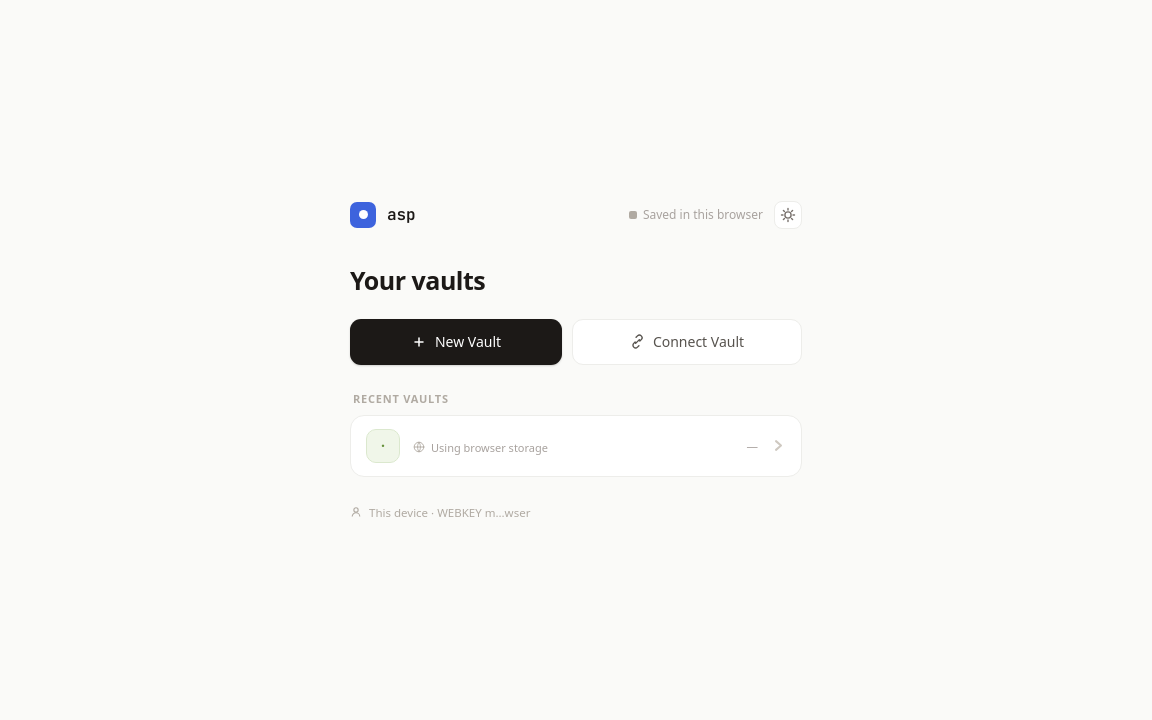
Scenario: App on the web (OPFS, no Tauri) › offers "New vault…" (not "Open a folder…") in the switcher
The image size is (1152, 720).
Click the text "Using browser storage": x=490, y=447 [431,440,548,454]
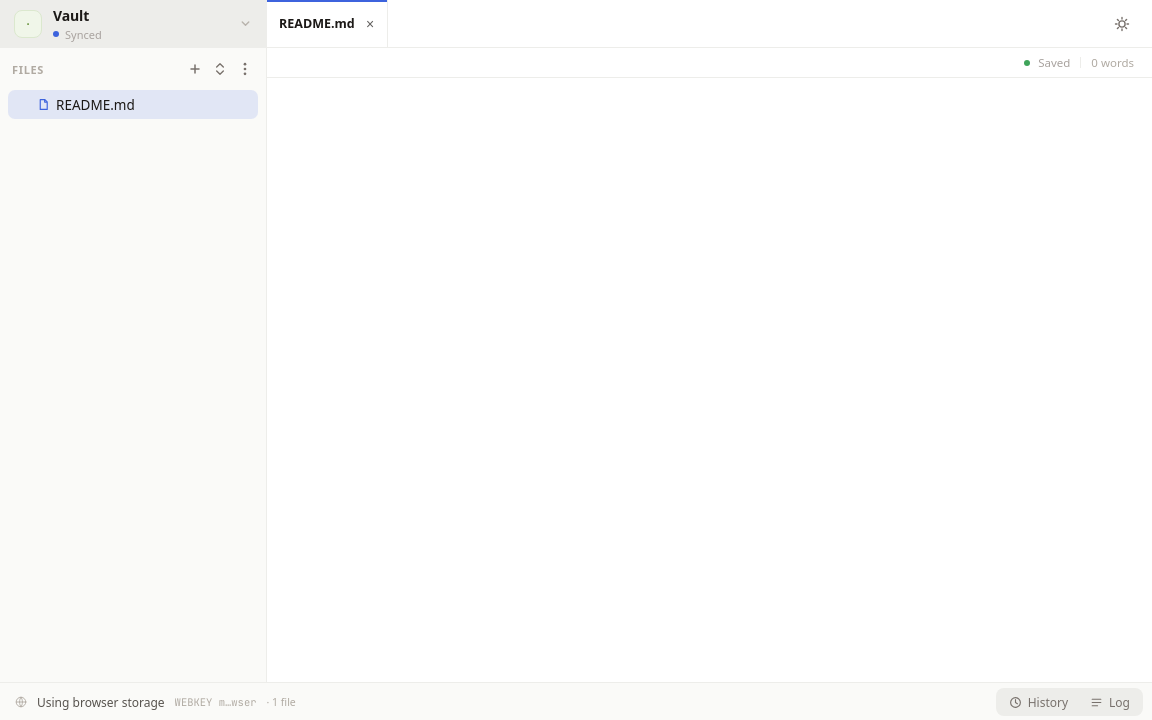
Now the text "Files" is shown, box [12,62,44,76]
Click the element with test id "vault-switcher": x=133, y=24 [0,0,266,47]
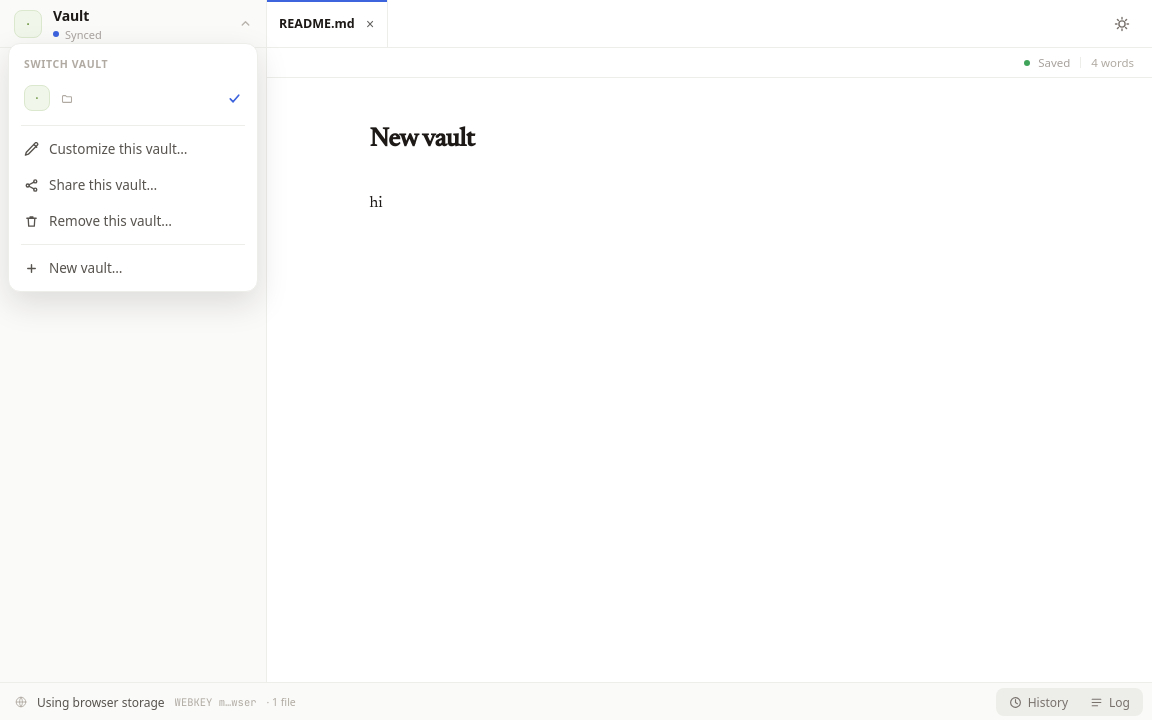
Now the text "New vault…" is shown
Click the text "New vault…": x=86, y=268 [49,259,122,277]
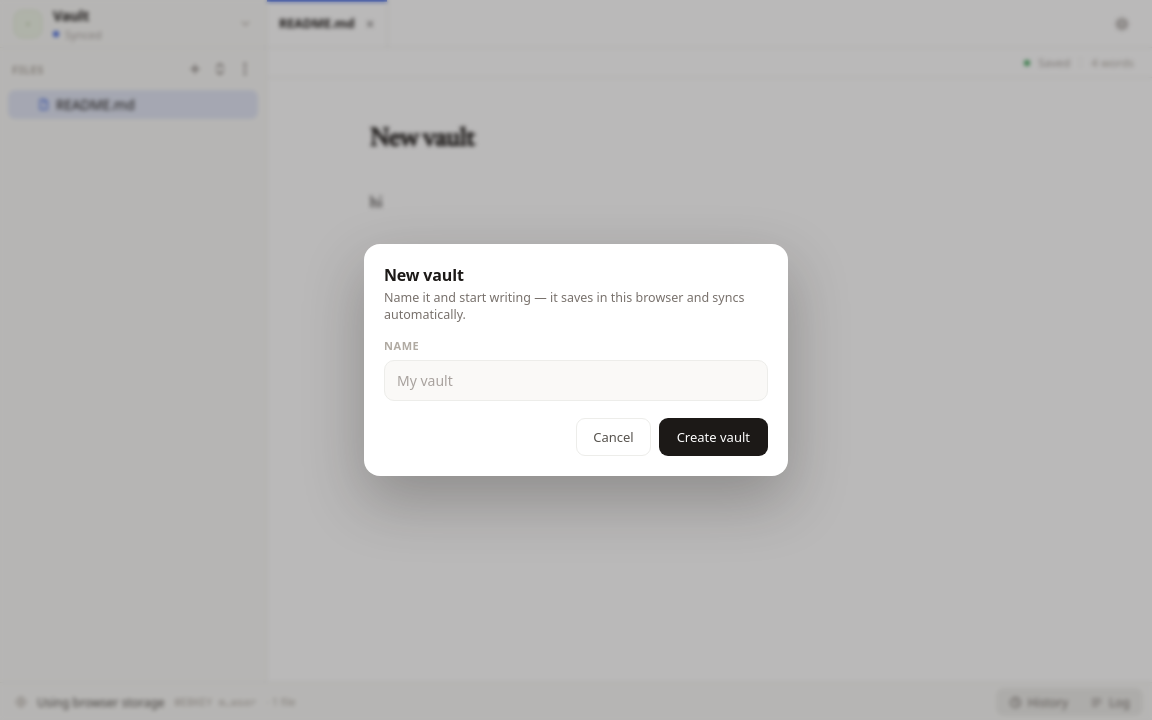
Now the field with placeholder "My vault" is shown, box [384,360,768,401]
